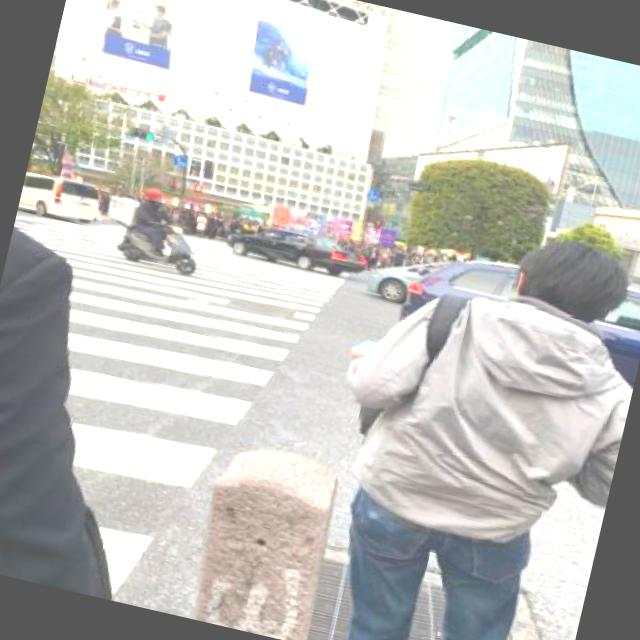Person: (292, 199, 640, 640)
